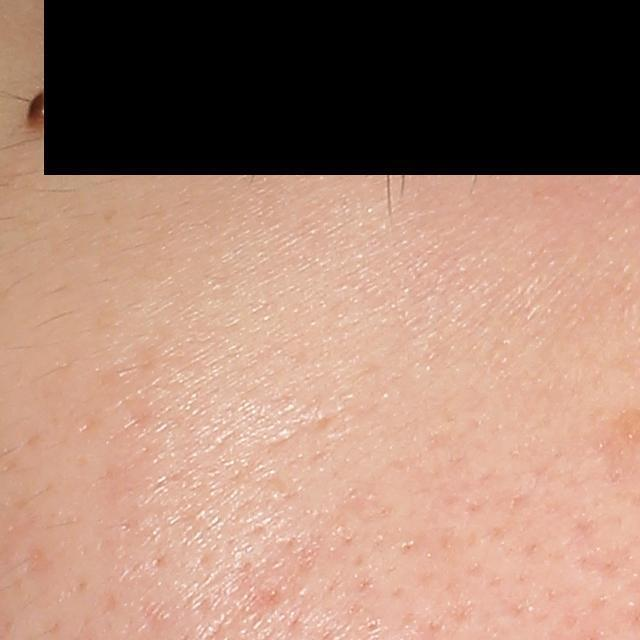nevus: (26, 82, 63, 130)
